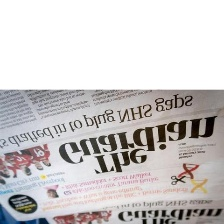news_paper: (0, 89, 224, 223), (40, 195, 224, 224)
